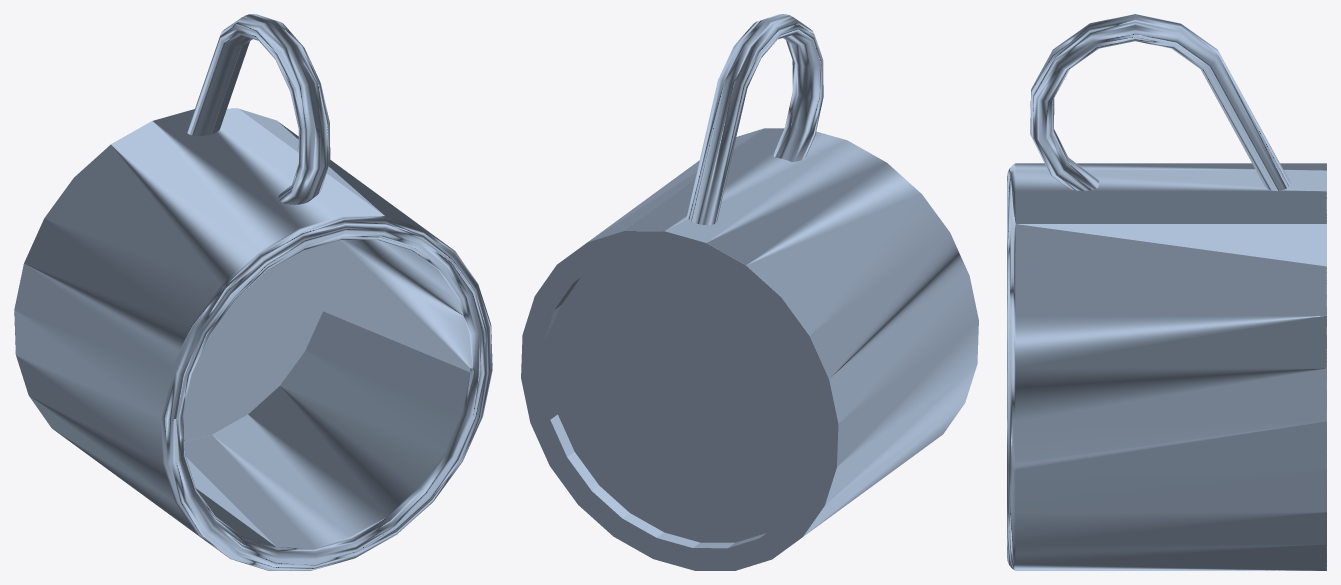
The model's file is model_align.obj.
The picture shows the model from 3 angles, left to right: view 1: azimuth 30°, elevation 25°; view 2: azimuth 150°, elevation 25°; view 3: azimuth 270°, elevation 25°; orthographic projection. The views are drawn at different scales.
Size of the model in its own units: 0.0903 by 0.1312 by 0.0712.
